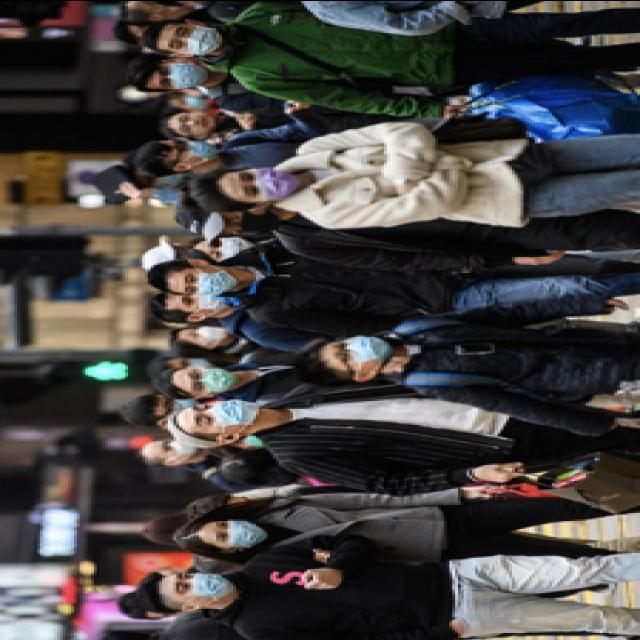mask: (230, 166, 298, 204), (188, 398, 259, 434), (168, 571, 234, 603), (328, 334, 390, 368), (162, 24, 225, 56), (176, 267, 236, 296), (210, 520, 268, 549), (150, 62, 208, 90), (222, 212, 279, 238), (182, 368, 233, 395), (202, 235, 253, 262), (154, 438, 202, 461), (168, 140, 216, 162), (157, 393, 199, 418), (173, 294, 224, 314), (185, 325, 227, 347), (174, 96, 208, 112)
no_mask: (171, 112, 213, 136)
